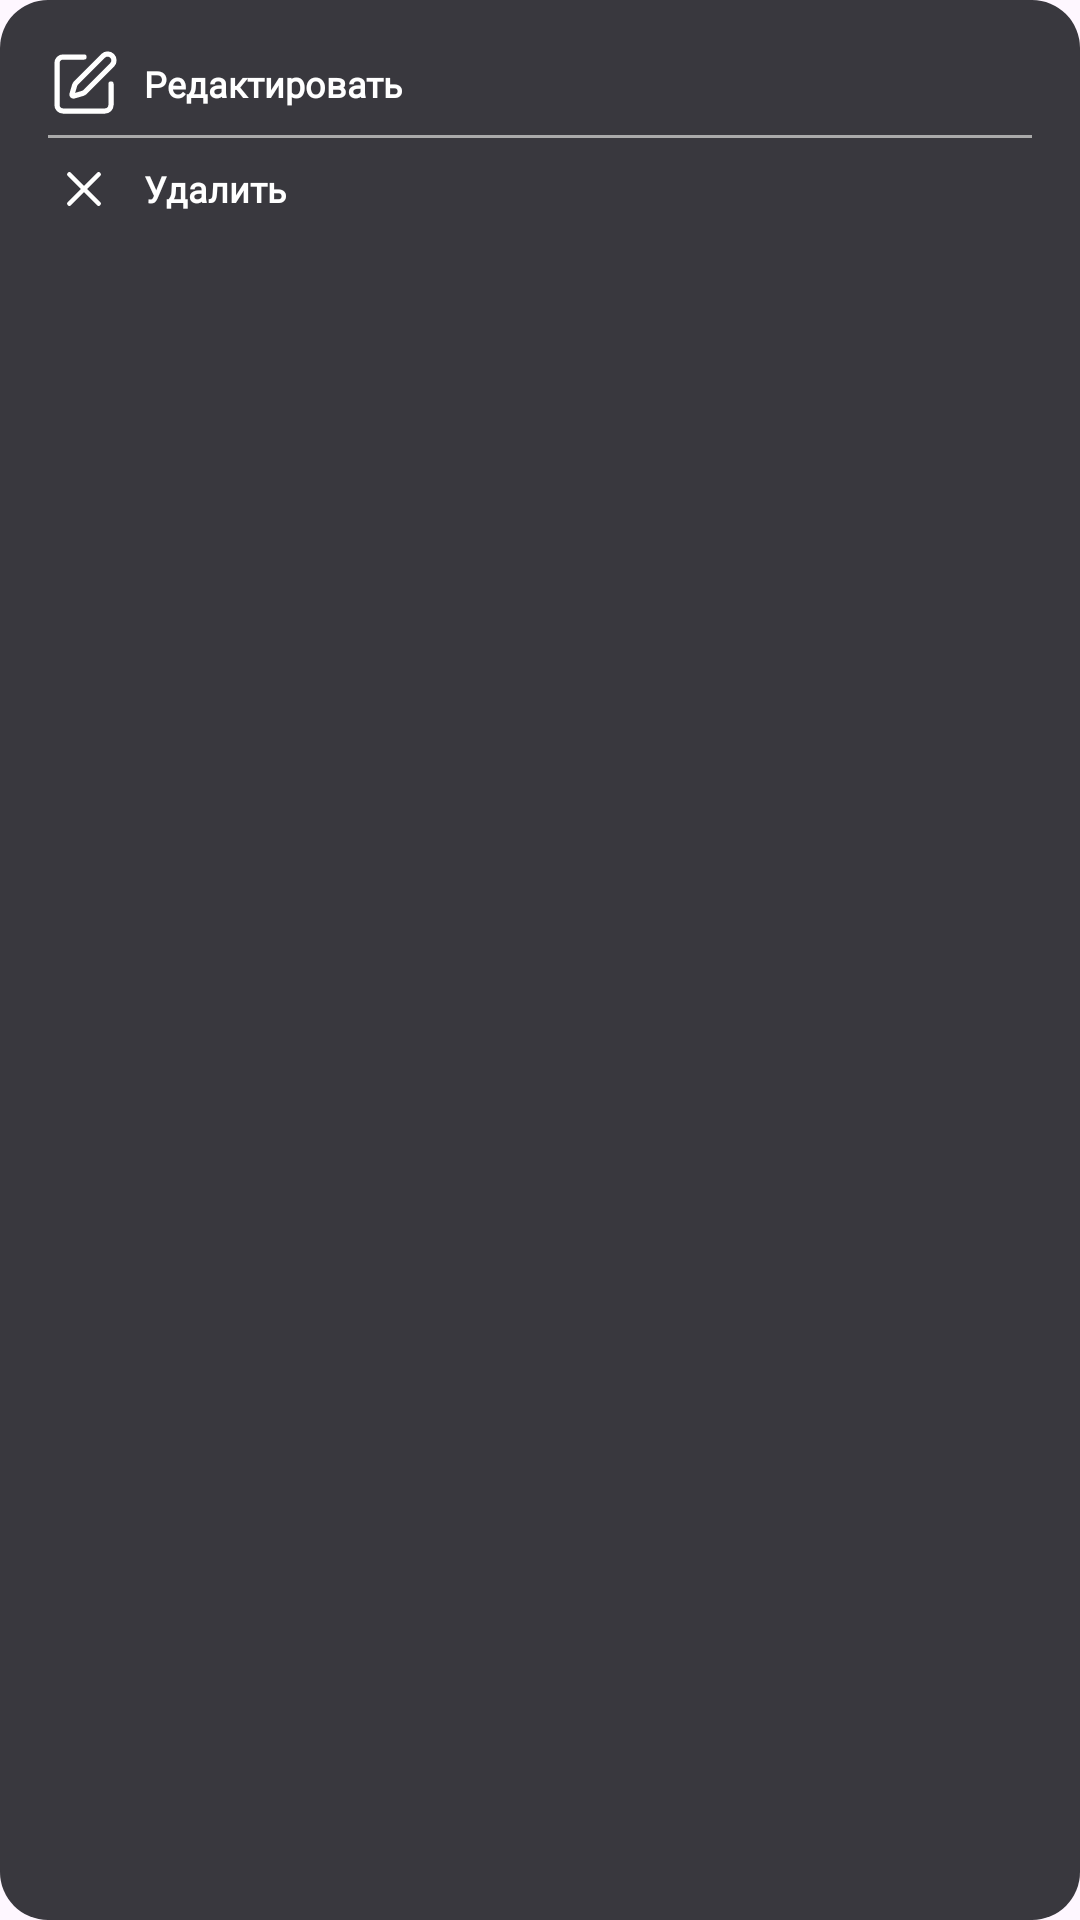

Named icons in this screenshot (1080 × 1920) and their centers, [x,y]:
cancellation: [84,189]
edit profile: [85,82]
